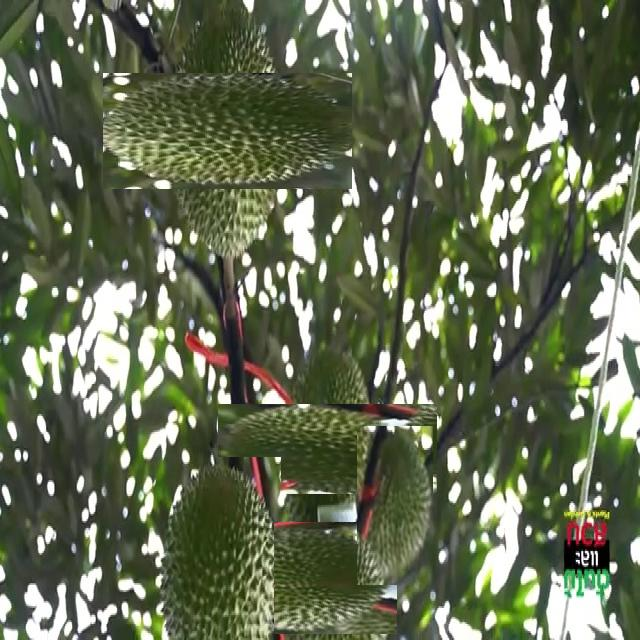durian: (136, 39, 319, 222), (250, 372, 405, 527), (157, 457, 281, 639), (277, 519, 395, 637), (357, 426, 433, 585)
